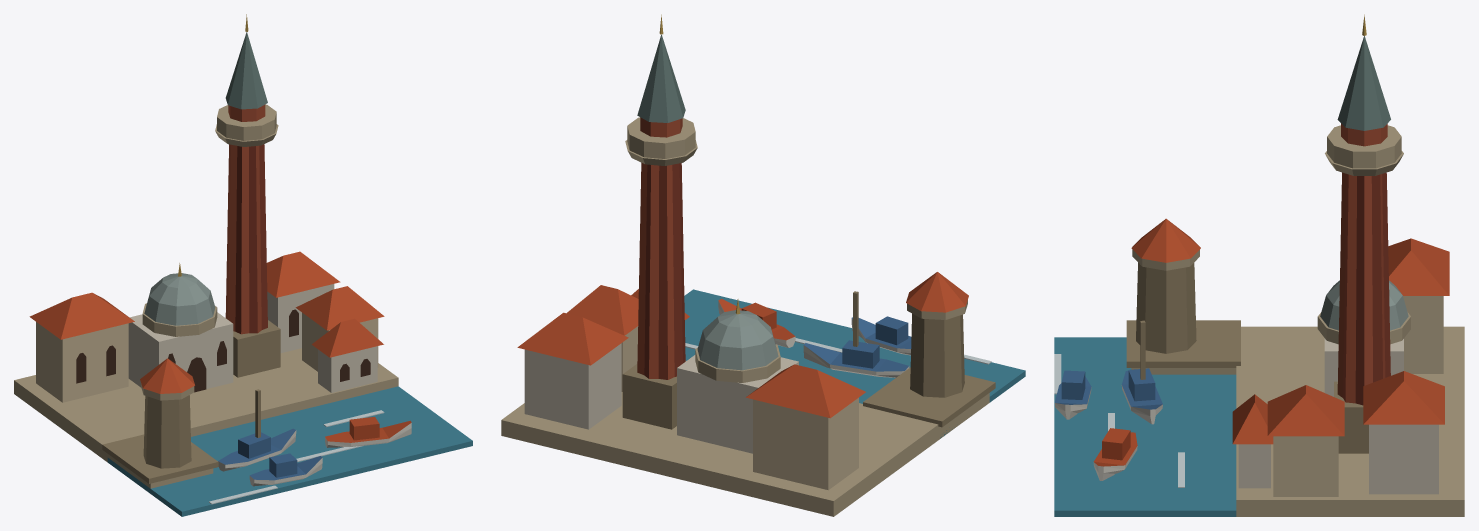
Rendered from portAntalya.glb.
3 renders of one model, left to right at view 1: azimuth 30°, elevation 25°; view 2: azimuth 150°, elevation 25°; view 3: azimuth 270°, elevation 25°, orthographic. The views are drawn at different scales.
Visible parts, largest first — view 1: portAntalya; view 2: portAntalya; view 3: portAntalya.
Part boxes in pixels (x1,y1,x2,y2): portAntalya: [14, 14, 472, 516]; portAntalya: [501, 14, 1025, 516]; portAntalya: [1054, 14, 1464, 516].
Bounding box in the file's own units: 1.78 × 2.1 × 1.76.
